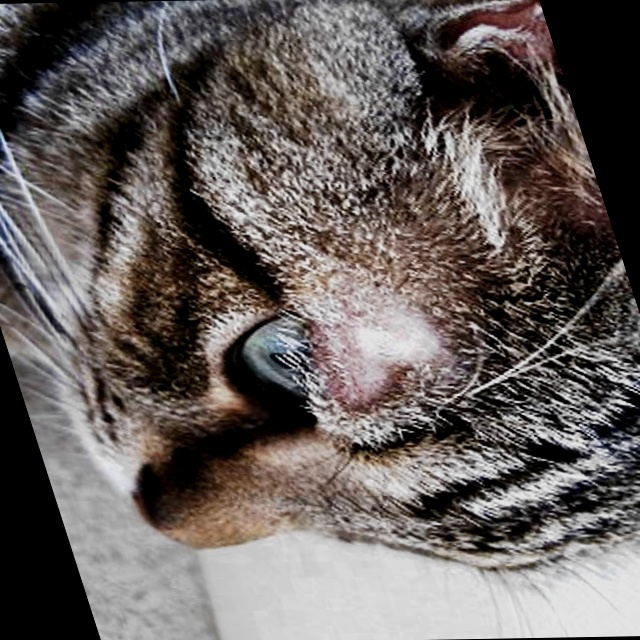hairloss: (334, 318, 464, 389)
